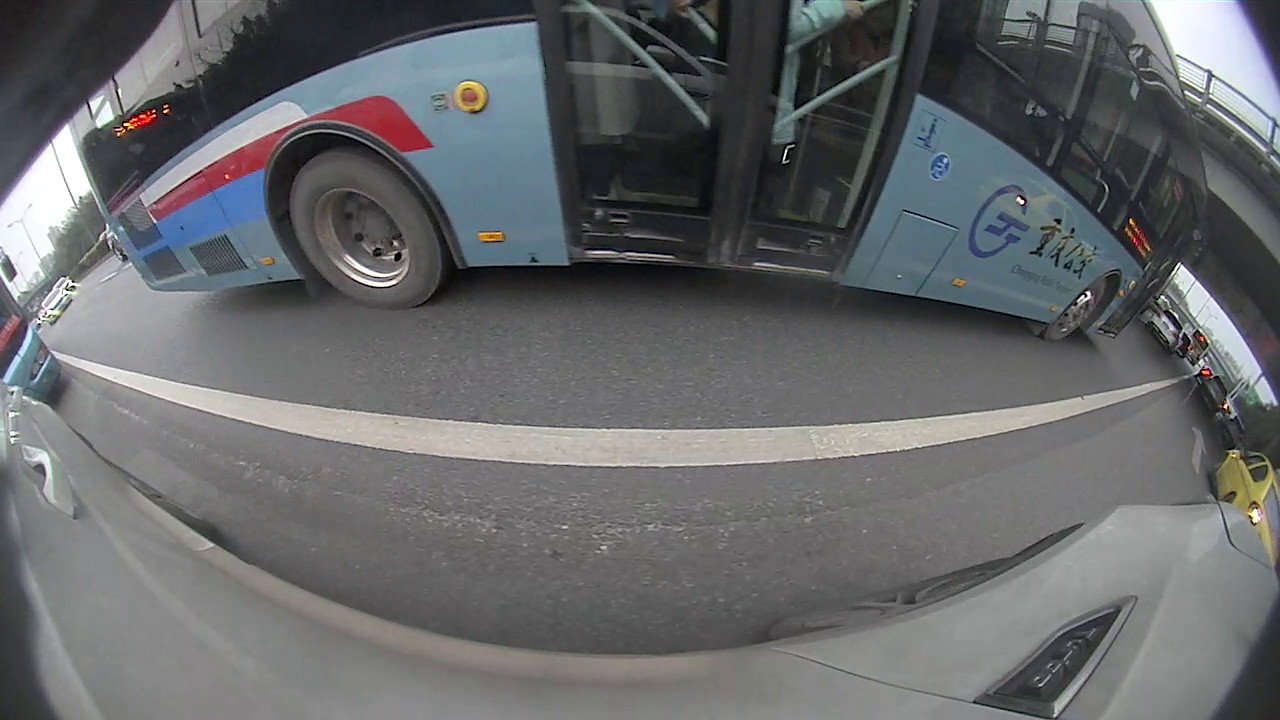bus: (62, 1, 1212, 340)
car: (1147, 309, 1186, 352)
front: (1042, 276, 1111, 342)
rear: (287, 152, 445, 314)
